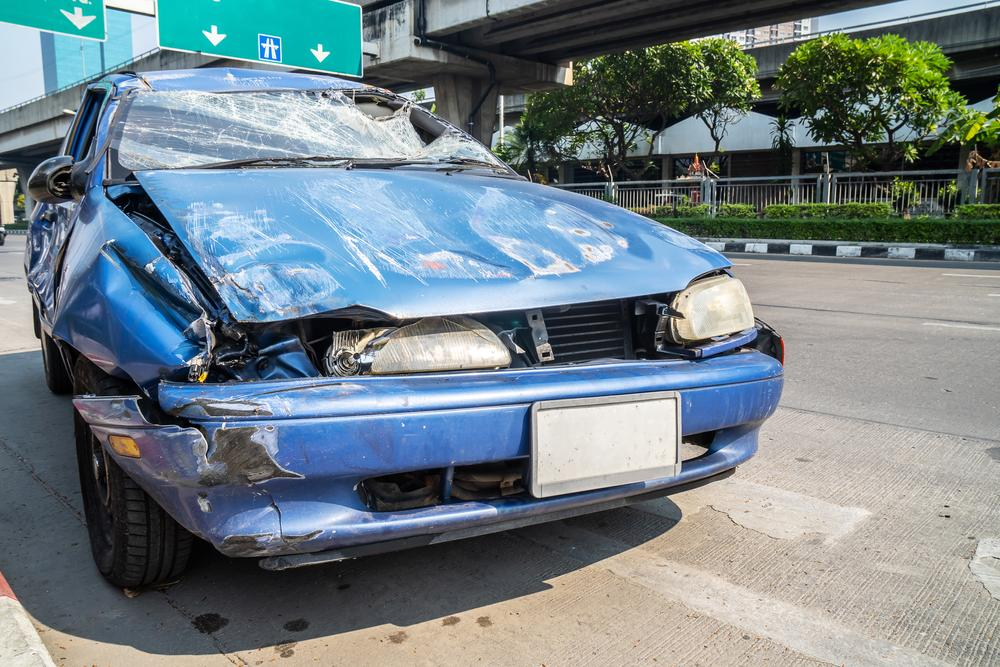crack: (135, 387, 213, 466), (244, 474, 290, 550)
dent: (59, 238, 202, 378)
glass shatter: (119, 90, 501, 170)
lamp broken: (327, 318, 514, 376)
scratch: (182, 170, 632, 320), (157, 381, 381, 556)
